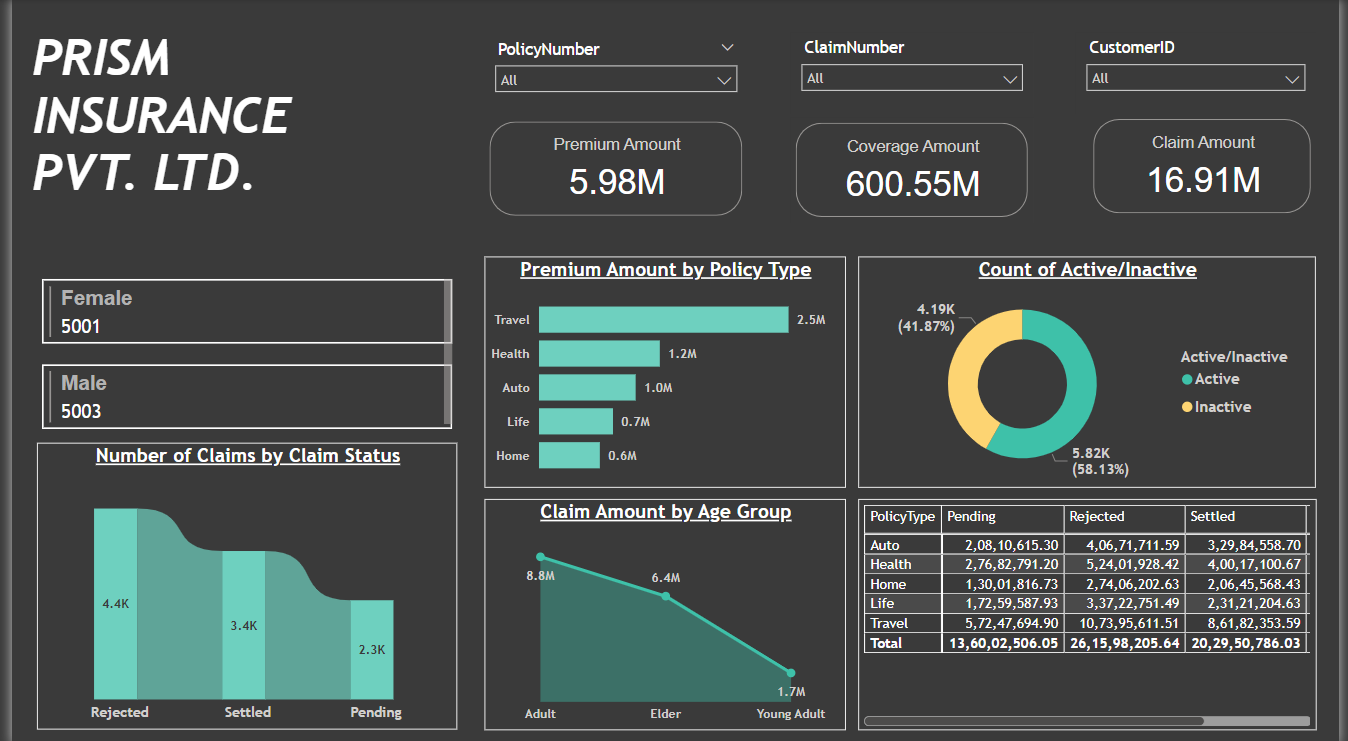

Layout of this report page (visuals, bound fields, positions):
{"tool":"powerbi","page":{"name":"Page 1","canvas":[1280,720],"ordinal":0},"visuals":[{"type":"slicer","fields":{"Values":["InsuranceData.PolicyNumber"]},"box":[455.8,34.4,253.7,78],"z":0},{"type":"slicer","fields":{"Values":["InsuranceData.ClaimNumber"]},"box":[751.4,32.9,234.3,78.6],"z":1000},{"type":"slicer","fields":{"Values":["InsuranceData.CustomerID"]},"box":[1027.1,32.9,231.4,78.6],"z":2000},{"type":"textbox","box":[14.5,24.1,415,224.4],"z":3000},{"type":"cardVisual","fields":{"Data":["Sum(InsuranceData.PremiumAmount)"]},"box":[455.7,112.9,254.3,101.4],"z":4000},{"type":"cardVisual","fields":{"Data":["Sum(InsuranceData.CoverageAmount)"]},"box":[751.4,114.3,234.3,101.4],"z":5000},{"type":"cardVisual","fields":{"Data":["Sum(InsuranceData.ClaimAmount)"]},"box":[1038.6,111.4,220,101.4],"z":6000},{"type":"multiRowCard","fields":{"Values":["InsuranceData.Gender","CountNonNull(InsuranceData.Gender)"]},"box":[24.3,265.7,405.7,162.9],"z":7000},{"type":"ribbonChart","title":"Number of Claims by Claim Status","fields":{"Category":["InsuranceData.ClaimStatus"],"Y":["CountNonNull(InsuranceData.ClaimStatus)"]},"box":[24.3,428.6,405.7,277.1],"z":8000},{"type":"barChart","title":"Premium Amount by Policy Type","fields":{"Category":["InsuranceData.PolicyType"],"Y":["Sum(InsuranceData.PremiumAmount)"]},"box":[455.7,248.6,348.6,222.9],"z":9000},{"type":"lineChart","title":"Claim Amount by Age Group","fields":{"Category":["InsuranceData.Age Group"],"Y":["Sum(InsuranceData.ClaimAmount)"]},"box":[456,482.6,348.7,223.2],"z":10000},{"type":"donutChart","title":"Count of Active/Inactive ","fields":{"Category":["InsuranceData.Active/Inactive"],"Y":["CountNonNull(InsuranceData.Active/Inactive)"]},"box":[816.8,248.5,441.6,223.2],"z":11000},{"type":"pivotTable","fields":{"Values":["Sum(InsuranceData.CoverageAmount)"],"Rows":["InsuranceData.PolicyType"],"Columns":["InsuranceData.ClaimStatus"]},"box":[817,483,442,223],"z":12000}]}

Visuals, with their boxes in screenshot pixels (x1, y1, x2, y2), scaled from the page's 1280x720 canvas onto the 1348x741 screenshot:
slicer - InsuranceData.PolicyNumber: l=480, t=35, r=747, b=116
slicer - InsuranceData.ClaimNumber: l=791, t=34, r=1038, b=115
slicer - InsuranceData.CustomerID: l=1082, t=34, r=1325, b=115
textbox: l=15, t=25, r=452, b=256
cardVisual - Sum(InsuranceData.PremiumAmount): l=480, t=116, r=748, b=221
cardVisual - Sum(InsuranceData.CoverageAmount): l=791, t=118, r=1038, b=222
cardVisual - Sum(InsuranceData.ClaimAmount): l=1094, t=115, r=1325, b=219
multiRowCard - InsuranceData.Gender x CountNonNull(InsuranceData.Gender): l=26, t=273, r=453, b=441
"Number of Claims by Claim Status" ribbonChart: l=26, t=441, r=453, b=726
"Premium Amount by Policy Type" barChart: l=480, t=256, r=847, b=485
"Claim Amount by Age Group" lineChart: l=480, t=497, r=847, b=726
"Count of Active/Inactive " donutChart: l=860, t=256, r=1325, b=485
pivotTable - Sum(InsuranceData.CoverageAmount) x InsuranceData.PolicyType: l=860, t=497, r=1326, b=727
